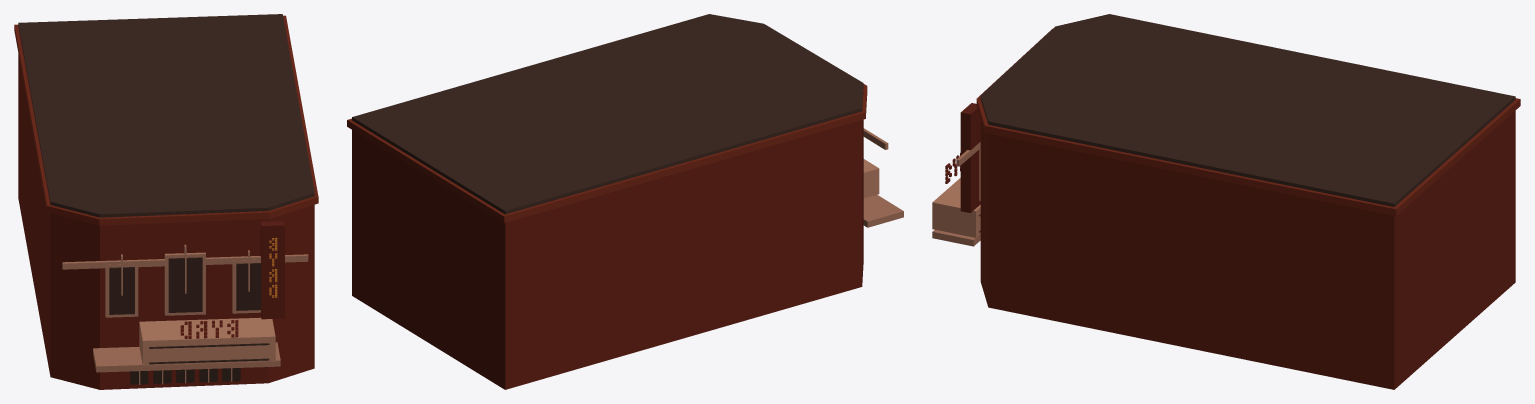
The model's file is byrd-theatre.glb.
The picture shows the model from 3 angles, left to right: view 1: azimuth 30°, elevation 25°; view 2: azimuth 150°, elevation 25°; view 3: azimuth 270°, elevation 25°; orthographic projection. The views are drawn at different scales.
Visible parts, largest first — view 1: auditorium; view 2: auditorium; view 3: auditorium.
Part boxes in pixels (bbox=[...]): auditorium: bbox=[14, 14, 318, 389]; auditorium: bbox=[347, 14, 903, 389]; auditorium: bbox=[932, 14, 1520, 389].
Bounding box in the file's own units: 42.41 × 18.85 × 53.96.
